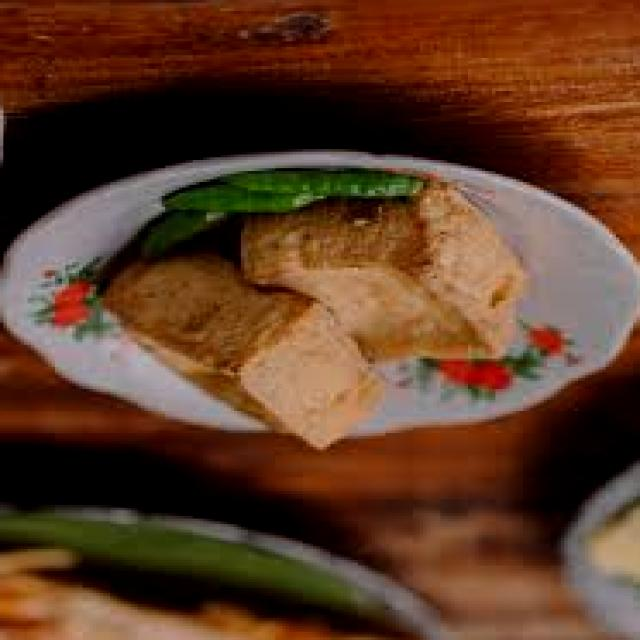tahu: (107, 274, 387, 452), (270, 183, 515, 372)
